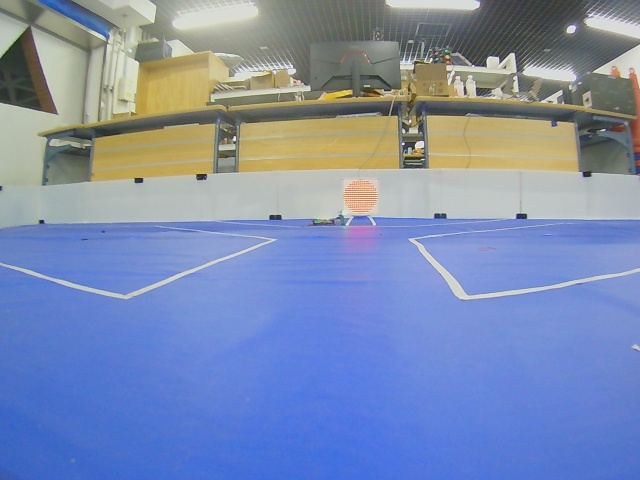red: (343, 179, 378, 215)
